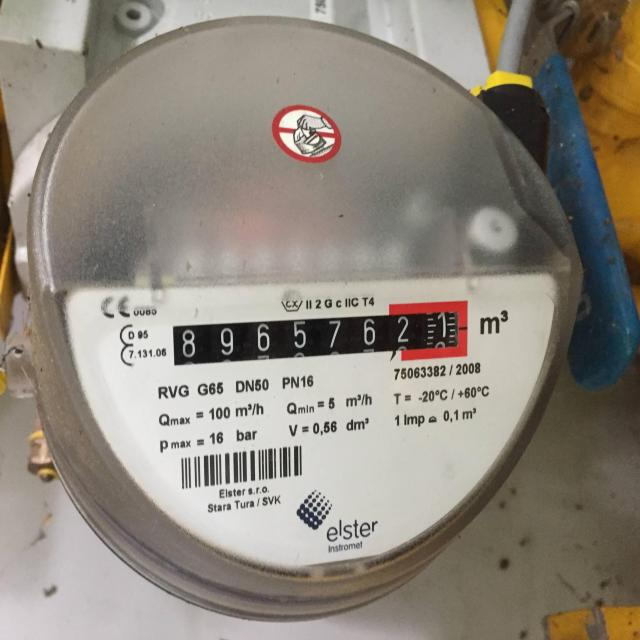gaz_meter: (30, 15, 585, 584)
indication: (169, 307, 462, 365)
